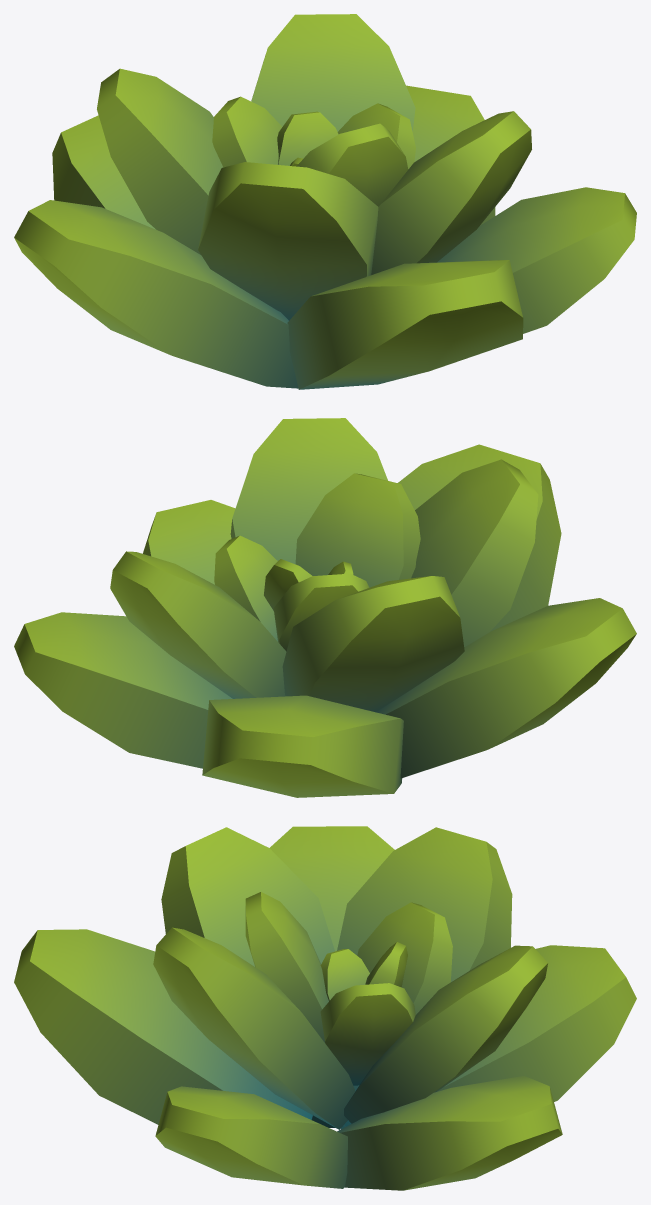
Rendered from Plant7.glb.
3 views of the same model, one above another, from view 1: azimuth 30°, elevation 25°; view 2: azimuth 150°, elevation 25°; view 3: azimuth 270°, elevation 25° (orthographic). The views are drawn at different scales.
Parts seen in each view (by area): view 1: Plant7; view 2: Plant7; view 3: Plant7.
Part boxes in pixels (bbox=[...]): Plant7: bbox=[14, 14, 636, 389]; Plant7: bbox=[14, 418, 636, 797]; Plant7: bbox=[14, 826, 636, 1190].
Size of the model in its own units: 0.7875 by 0.3779 by 0.8217.
